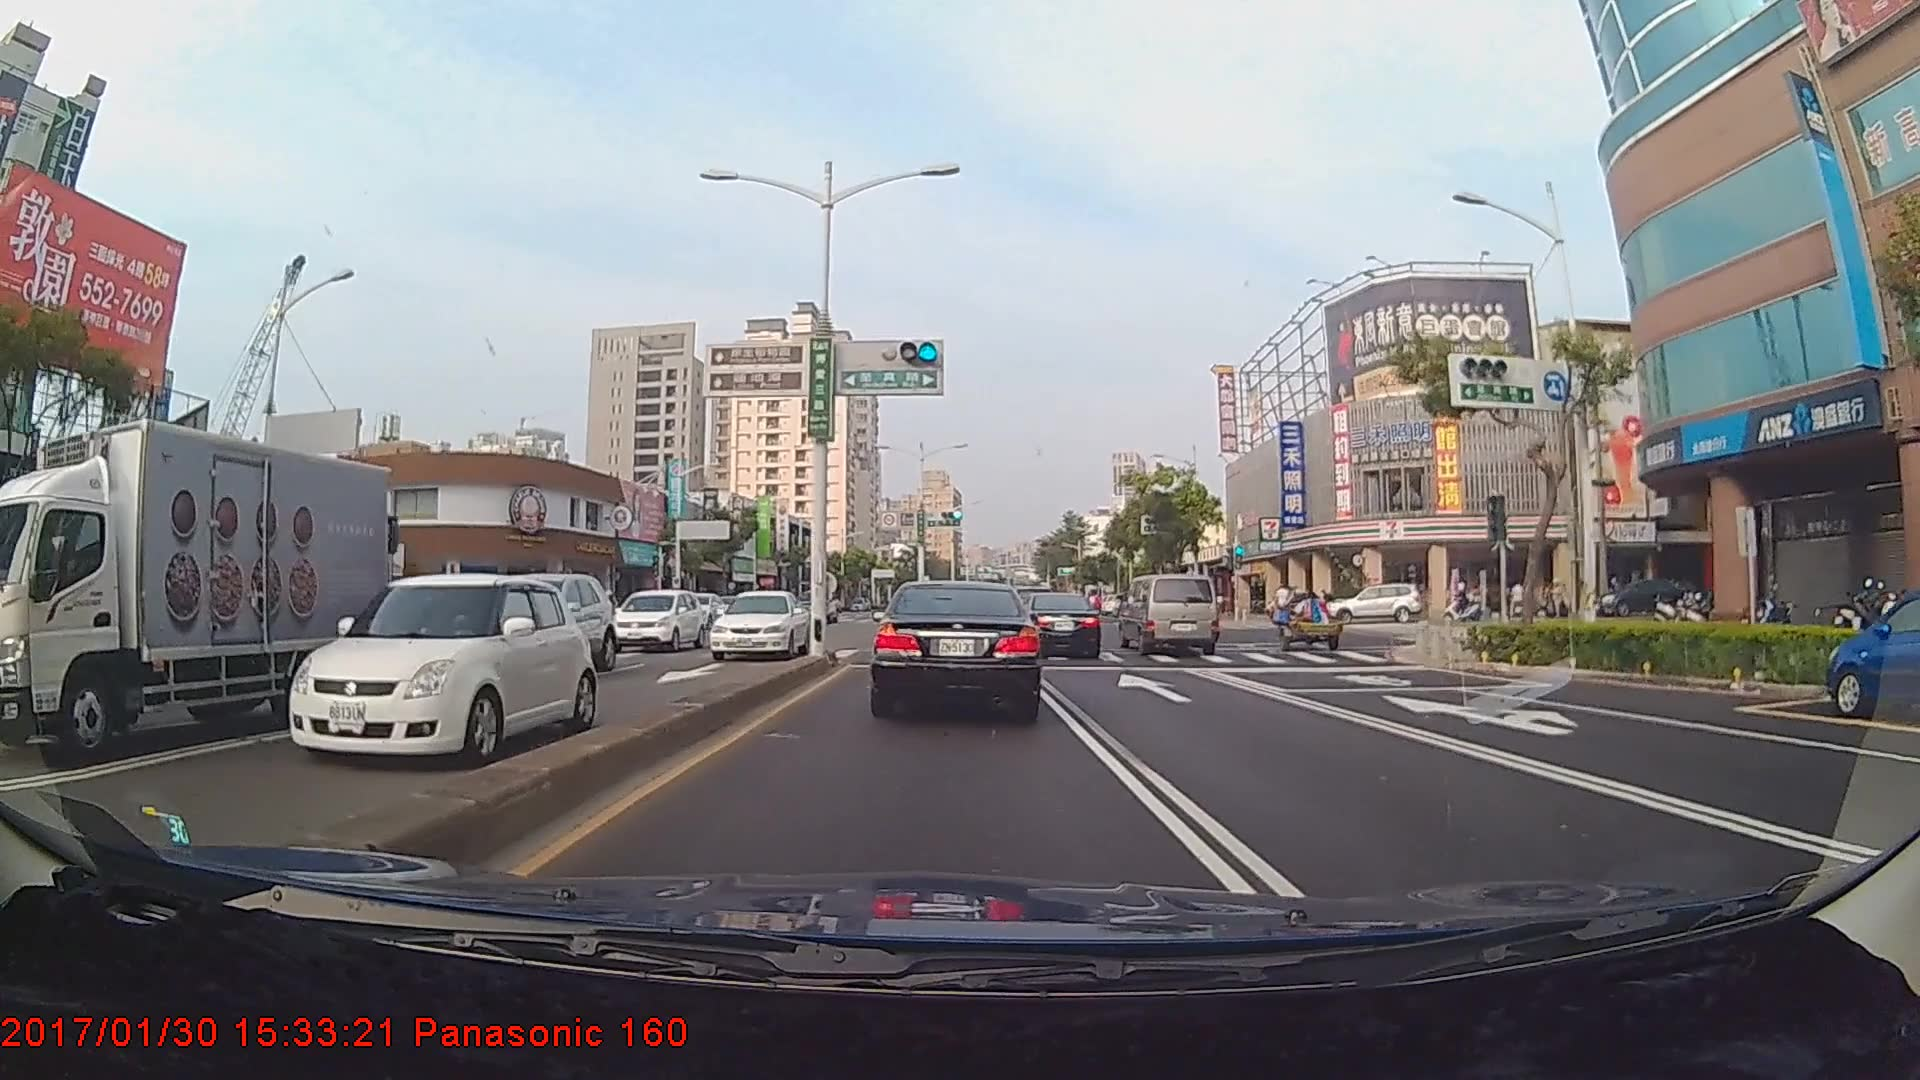vehicle: (0, 411, 392, 752), (258, 564, 576, 778), (872, 575, 1040, 719), (458, 566, 618, 673), (1822, 584, 1920, 717), (1122, 572, 1222, 658), (704, 583, 808, 657), (600, 583, 702, 653), (1019, 592, 1102, 657), (1325, 582, 1428, 626)
